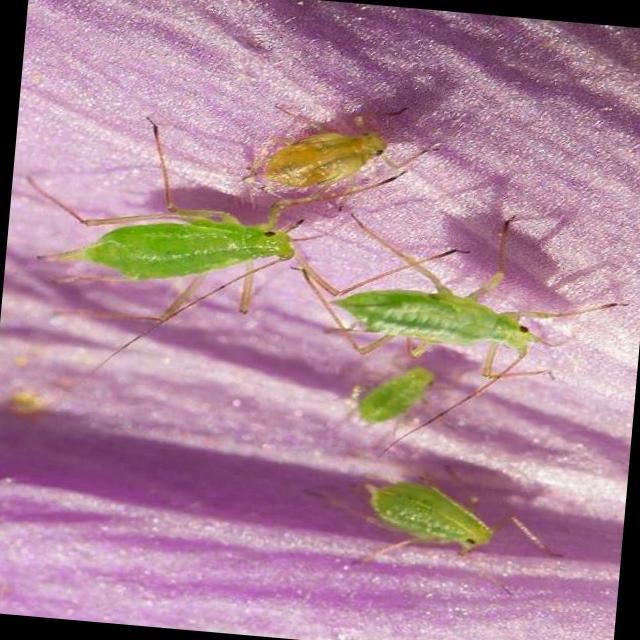aphid: (46, 164, 318, 317), (313, 255, 570, 372), (220, 96, 394, 200), (330, 474, 502, 554), (339, 342, 444, 442)
